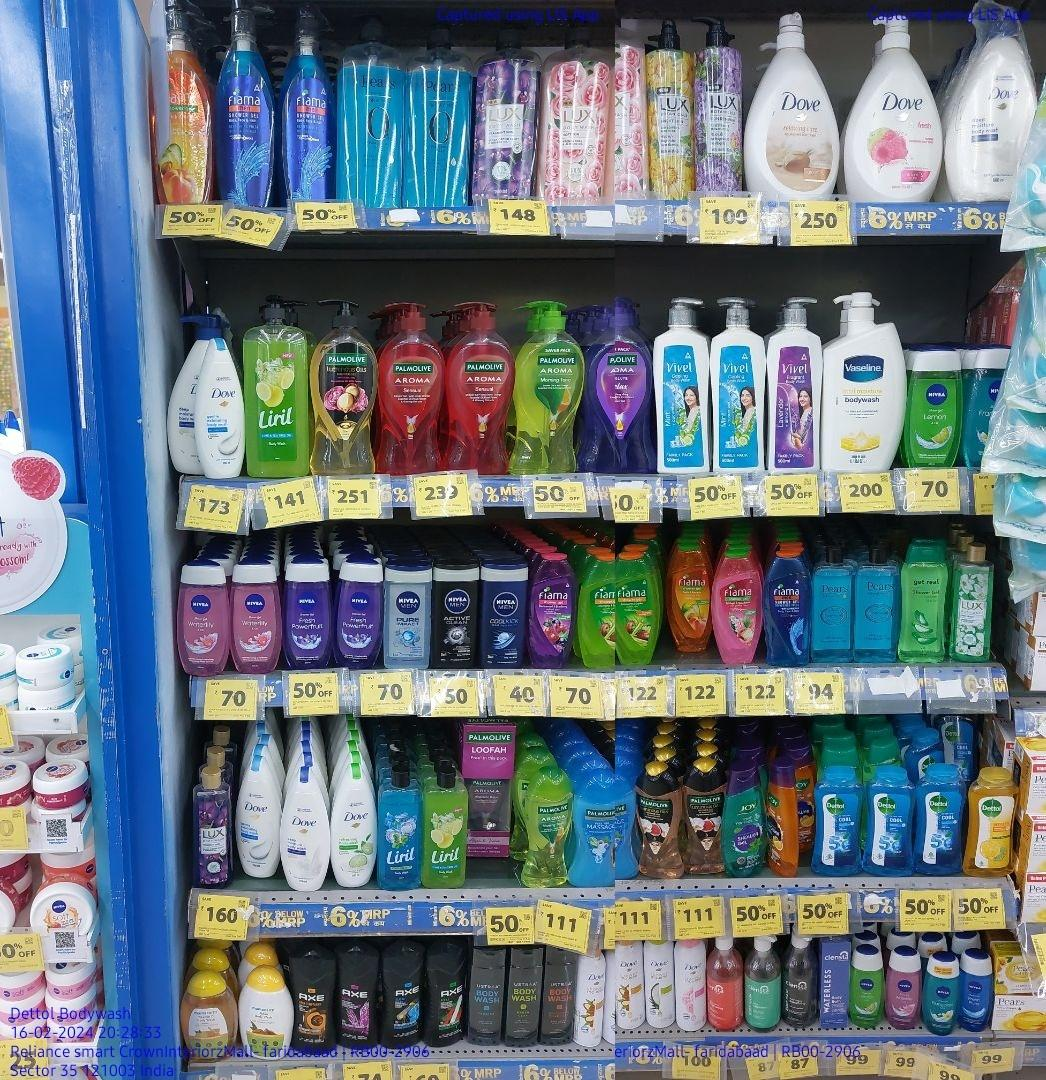Dettol_Bodywash_Cool: (814, 765, 862, 875), (915, 764, 962, 875), (867, 766, 912, 875)
Dettol_Bodywash_Refresh: (966, 766, 1013, 873)
Dove_Deep_Moisture_Body_Wash_250ML: (285, 766, 329, 894)
Dove_Gentle_Exfoliating_Body_Wash_250ML: (194, 338, 248, 479), (237, 761, 281, 877)
Dove_Refreshing_Body_Wash_250ML: (332, 762, 376, 886)
Fiama_Shower_Gel_Lemongrass_and_Jojoba_250ML: (618, 548, 657, 667), (581, 554, 617, 670)
Fiama_Shower_Gel_Patchouli_and_Macadamia_250ML: (716, 548, 765, 668)
Fiama_Shower_Gel_Peach_and_Avocado_250ML: (663, 543, 715, 653)
Joy_Shower_Gel_Mint_and_Eucalyptus_250ML: (723, 759, 764, 877)
Liril_Cooling_Mint_Body_Wash_250ML: (377, 767, 422, 889)
Liril_Lime_and_Tea_Tree_Oil_Body_Wash_250ML: (425, 767, 466, 889)
Lux_Black_Orchid_Scent_and_Juniper_Oil_Body_Wash_245ML: (191, 765, 232, 891)
Lux_Body_Wash_Skin_Detox_Freesia_Scent_and_Alove_Vera_245ML: (947, 542, 993, 664)
Nivea_Shower_Gel_Fresh_Powerfruit_250ML: (284, 556, 331, 665), (335, 558, 381, 665)
Nivea_Shower_Gel_Lemon_and_Oil_250ML: (910, 350, 960, 467)
Nivea_Shower_Gel_Waterlily_and_Oil_250ML: (176, 564, 229, 675), (233, 559, 279, 672)
Palmolive_Aroma_Moments_Feel_The_Massage_Shower_Gel_250ML: (572, 771, 614, 888)
Palmolive_Aroma_Morning_Tonic_Shower_Gel_250ML: (522, 766, 568, 886)
Palmolive_Luminous_Oils_With_White_Orchid_Shower_Gel_250ML: (635, 762, 682, 879), (686, 761, 722, 875)
